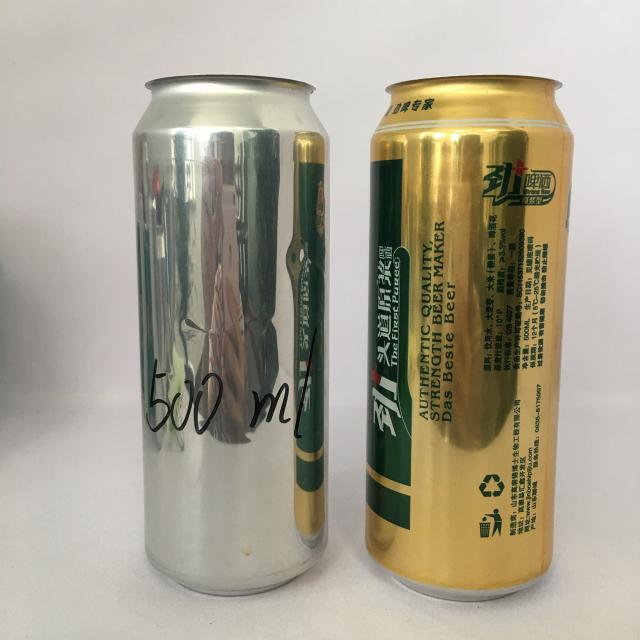non-organic waste: (114, 65, 345, 612), (367, 72, 573, 606)
